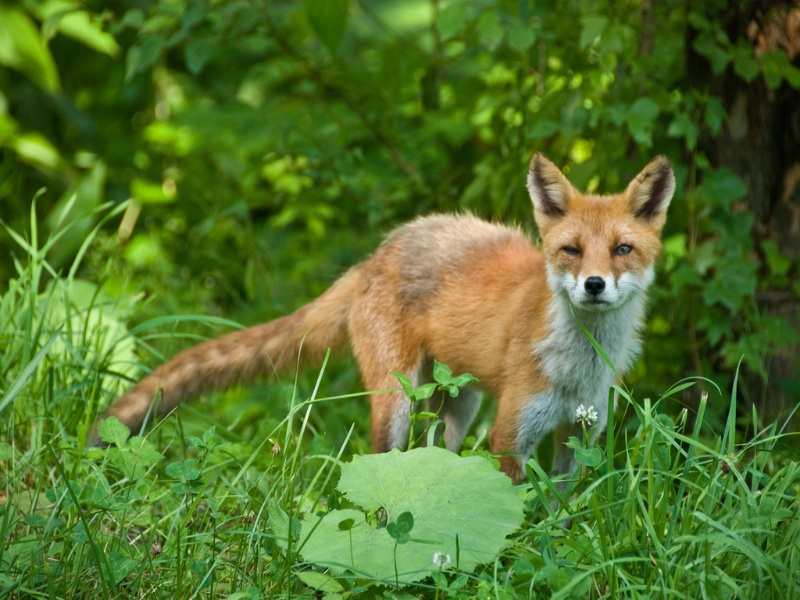fox: (82, 153, 676, 475)
